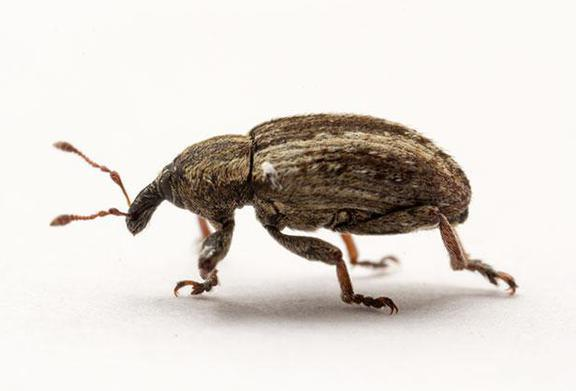weevils: (26, 77, 549, 348)
